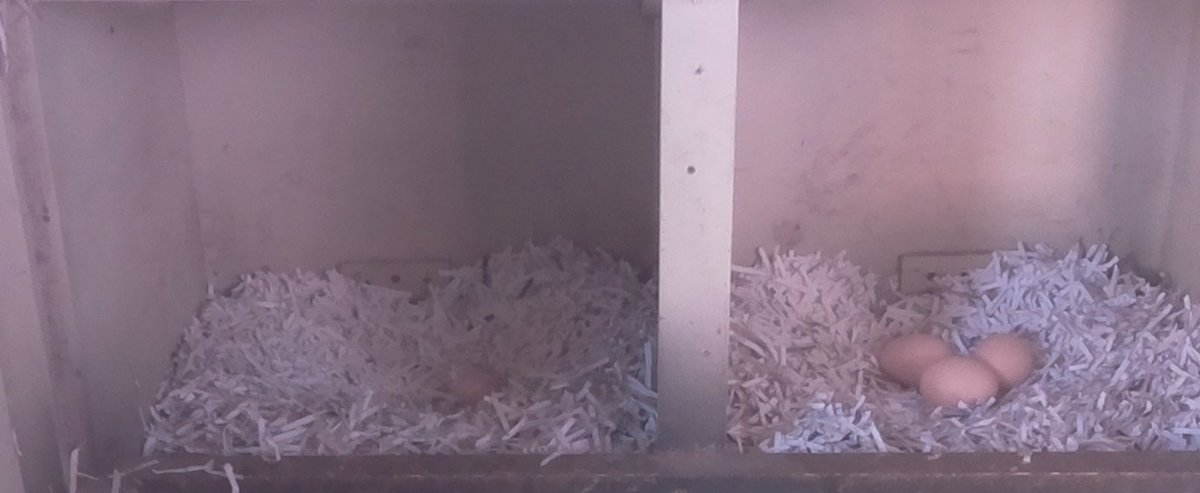egg: (918, 353, 1000, 413), (967, 329, 1037, 387), (873, 333, 951, 384), (442, 359, 503, 405)
